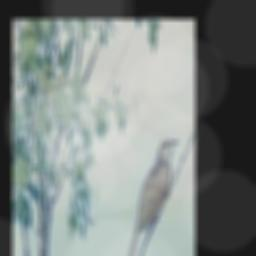Cuckoo: (126, 138, 179, 256)
